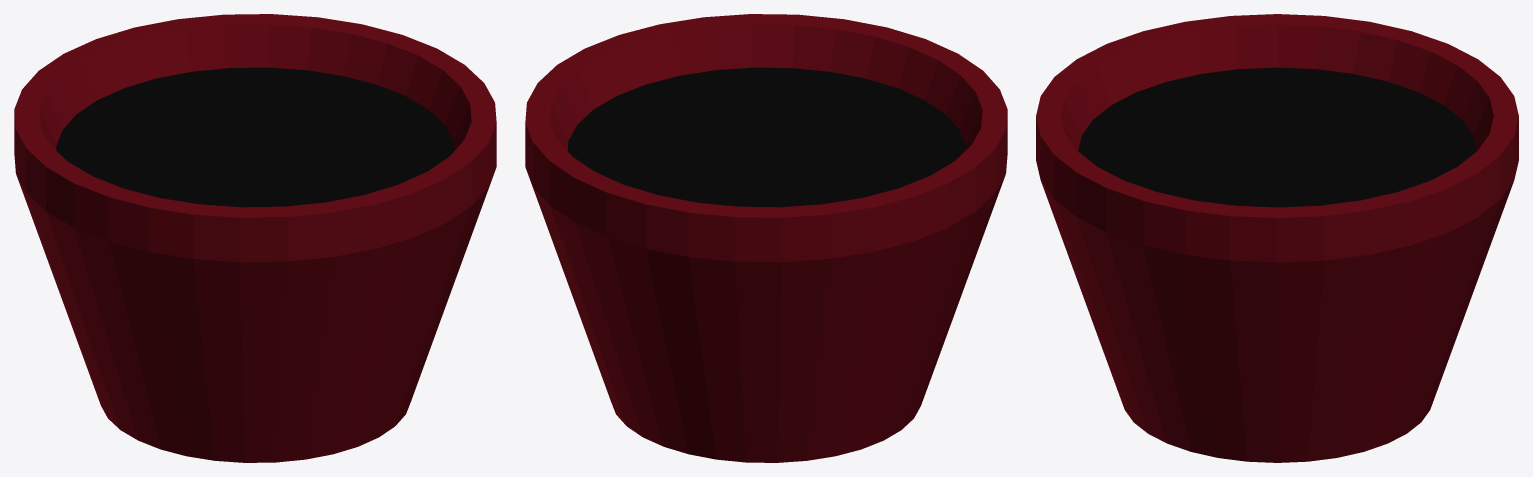
The model's file is Planter.fbx.
3 renders of one model, left to right at view 1: azimuth 30°, elevation 25°; view 2: azimuth 150°, elevation 25°; view 3: azimuth 270°, elevation 25°, orthographic.
Visible parts, largest first — view 1: Planter; view 2: Planter; view 3: Planter.
Boxes of the visible parts, x1,y1,x2,y2 form: Planter: (14,14,496,462); Planter: (525,14,1007,462); Planter: (1036,14,1518,462).
Bounding box in the file's own units: 104 × 66.58 × 104.
